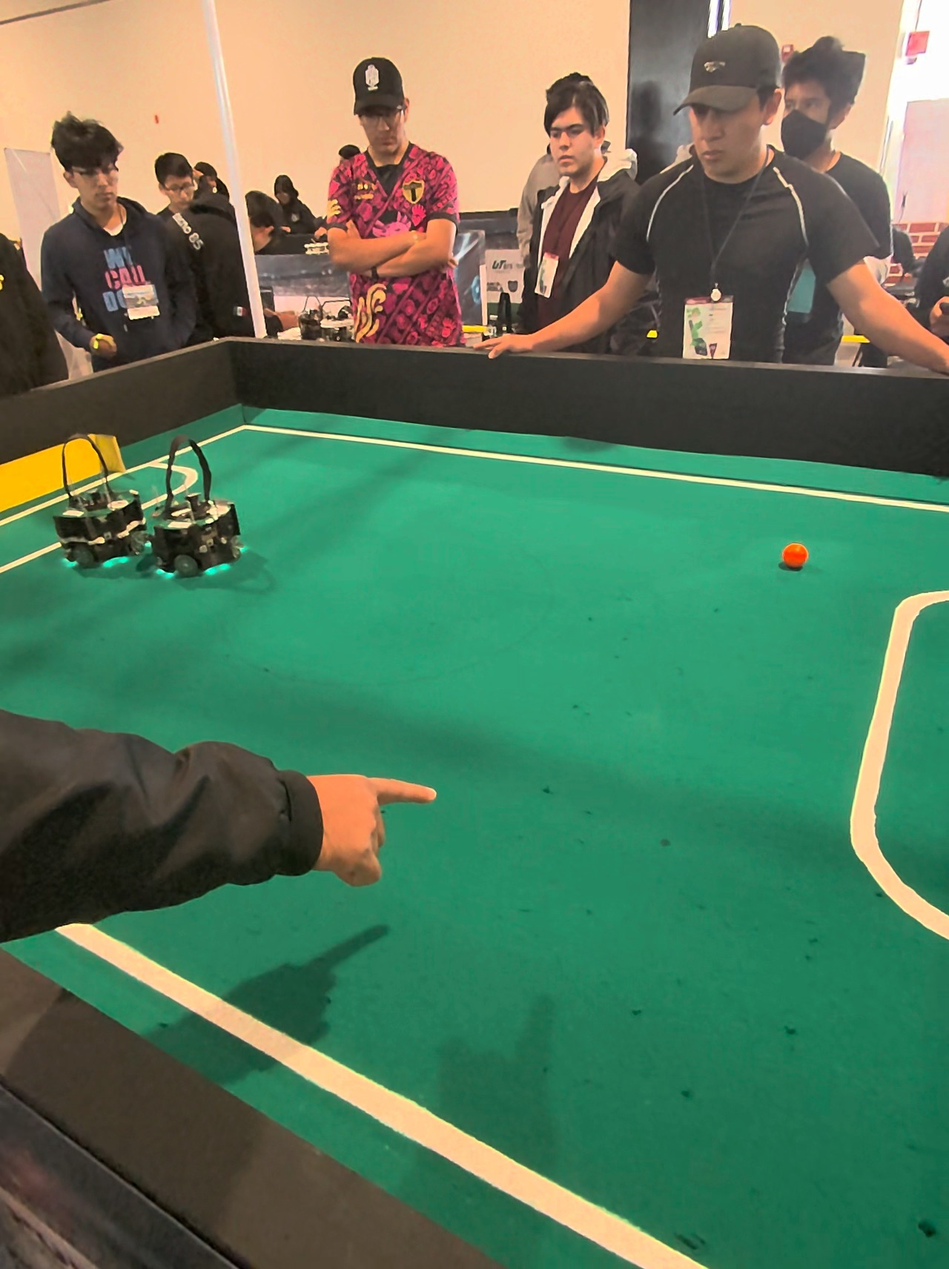Robot: (151, 436, 251, 591), (53, 429, 149, 578)
pelota: (781, 542, 809, 572)
